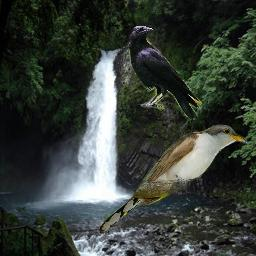Crow: (128, 25, 202, 120)
Cuckoo: (96, 123, 251, 235)
